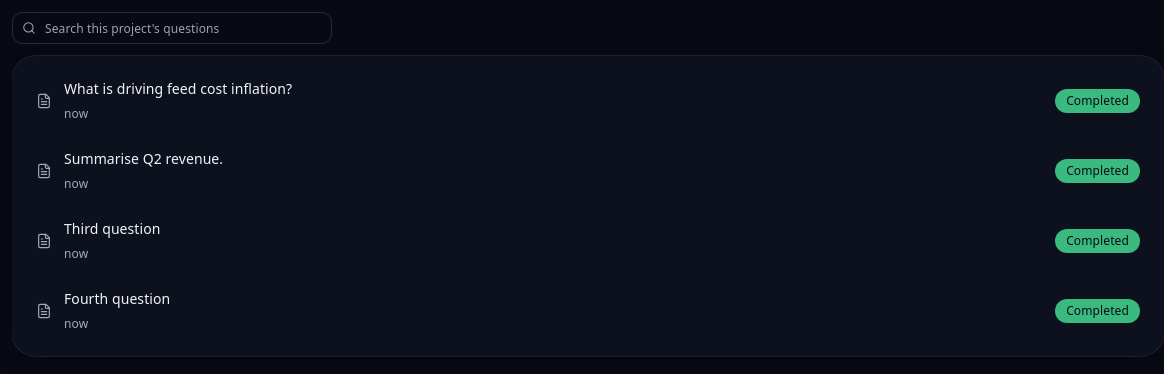
it: ResearchHistoryList › filters by a search term over the question text
Type "feed cost" into the search field named "search research history" at {"x": 172, "y": 28}, box 12,12 -> 332,44
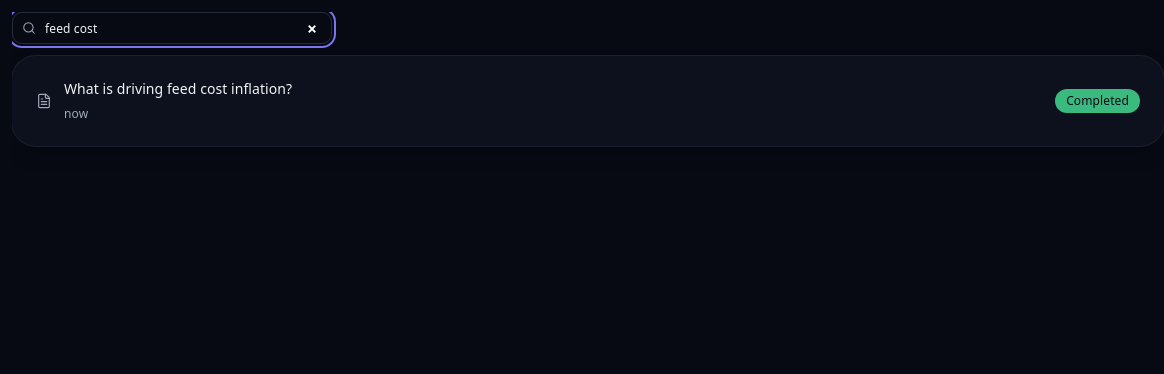
Check: the text "What is driving feed cost inflation?" is shown, box 64,78 -> 292,100
Check: the link "Summarise Q2 revenue." is gone
